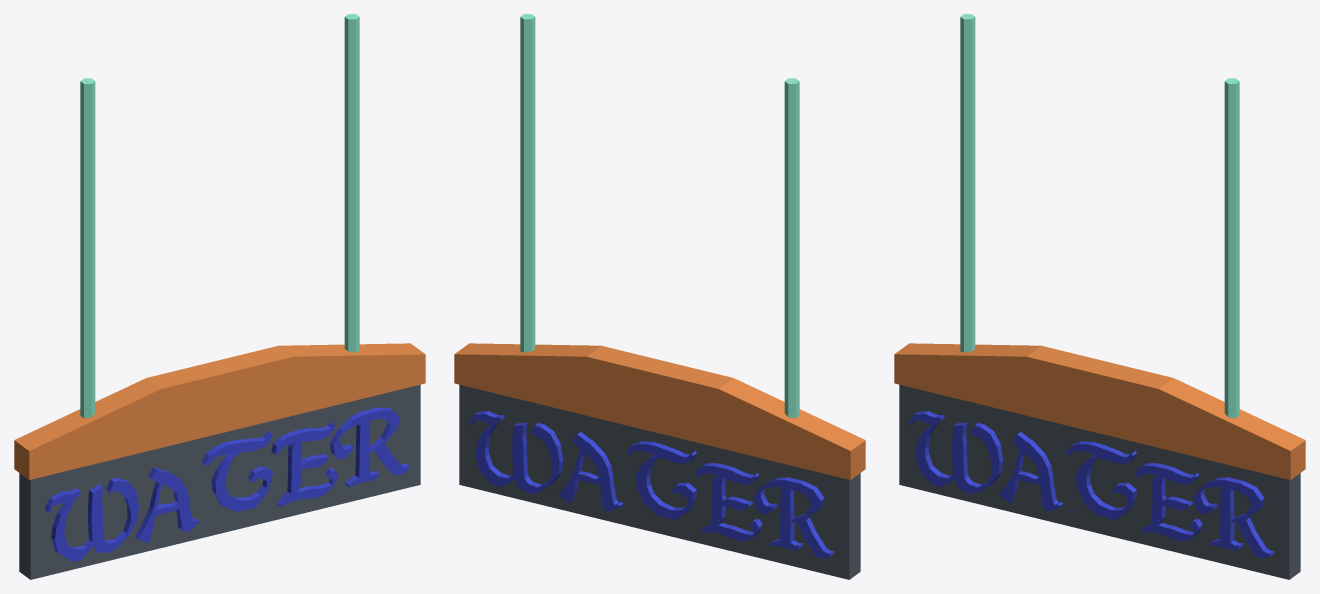
The model's file is StoreSigns.fbx_Water.fbx.
3 renders of one model, left to right at view 1: azimuth 30°, elevation 25°; view 2: azimuth 150°, elevation 25°; view 3: azimuth 330°, elevation 25°, orthographic.
Parts seen in each view (by area): view 1: Water; view 2: Water; view 3: Water.
Boxes of the visible parts, x1=… form: Water: x1=14, y1=14, x2=425, y2=579; Water: x1=454, y1=14, x2=865, y2=579; Water: x1=894, y1=14, x2=1305, y2=579.
Bounding box in the file's own units: 52 × 610 × 705.
